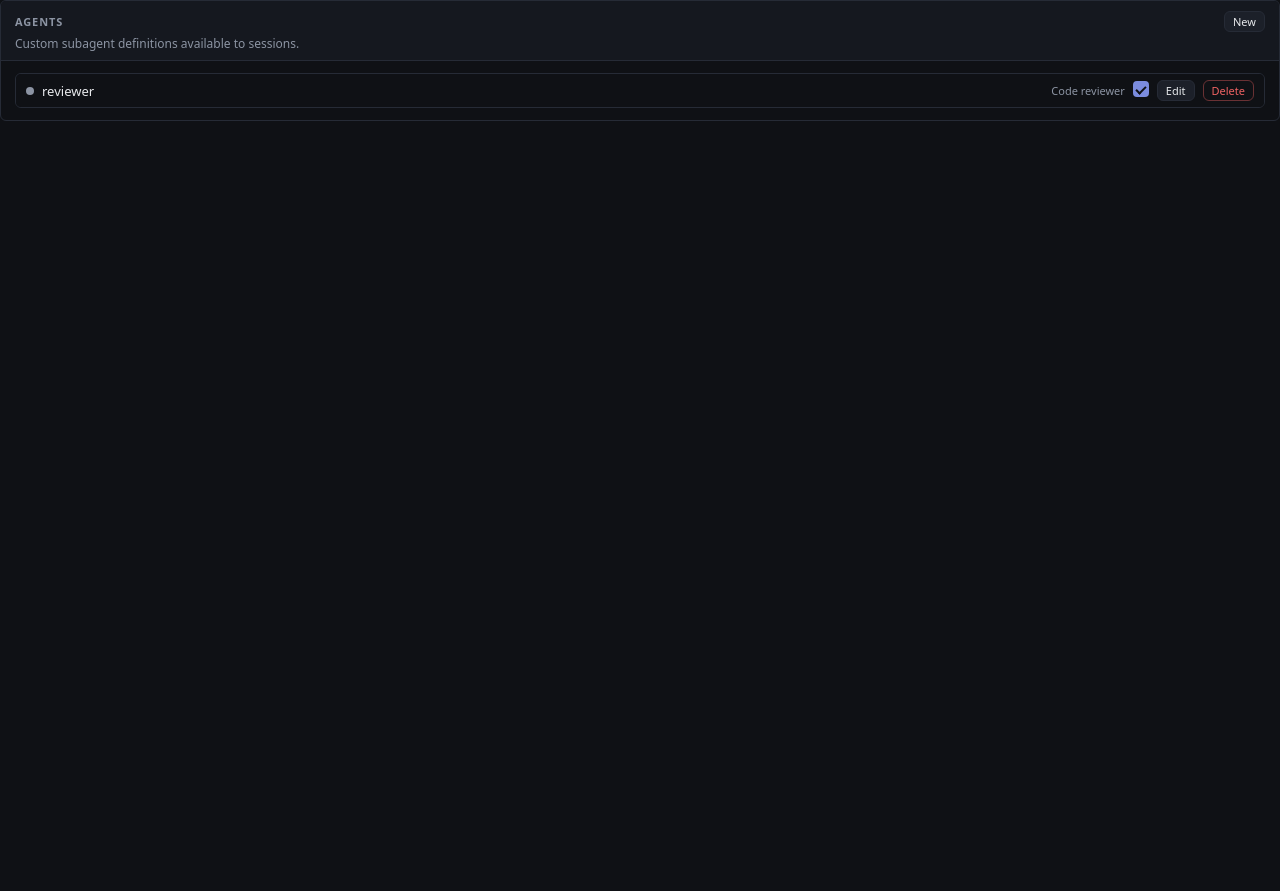
it: AgentDefinitionsSection › opens the create form when New is clicked
Click the button "New" at (1244, 22), box x1=1224 y1=11 x2=1265 y2=32
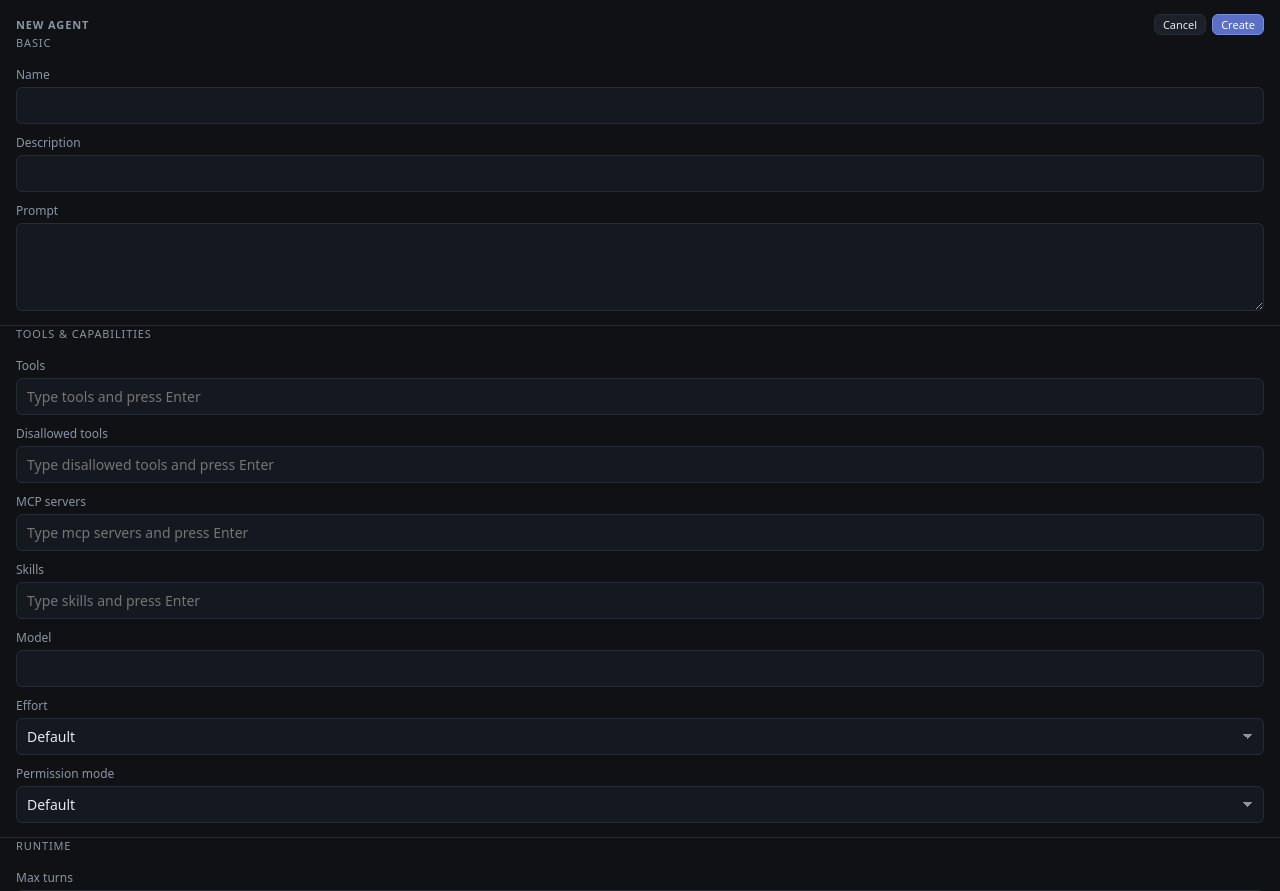
Now the heading "New agent" is shown, box x1=16 y1=17 x2=89 y2=32
Now the button "Create" is shown, box x1=1212 y1=14 x2=1264 y2=35
